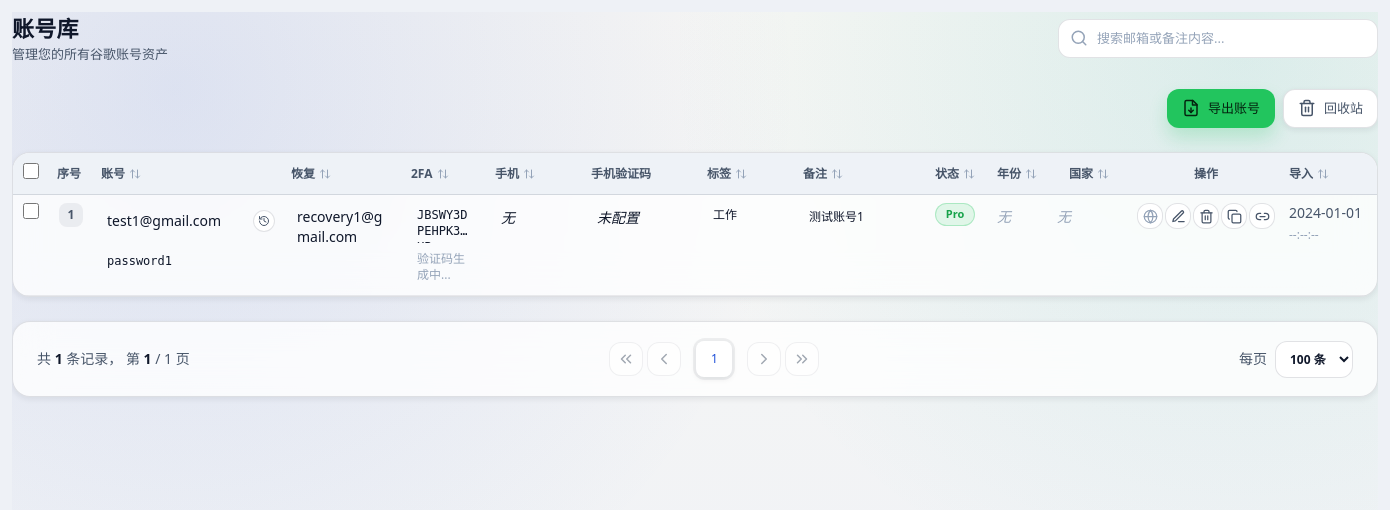
AccountListView 组件 › 操作按钮 › 双击标签进入编辑时不触发复制
Double-click the button "工作".
double_click(747, 215)  # box [707, 203, 787, 227]
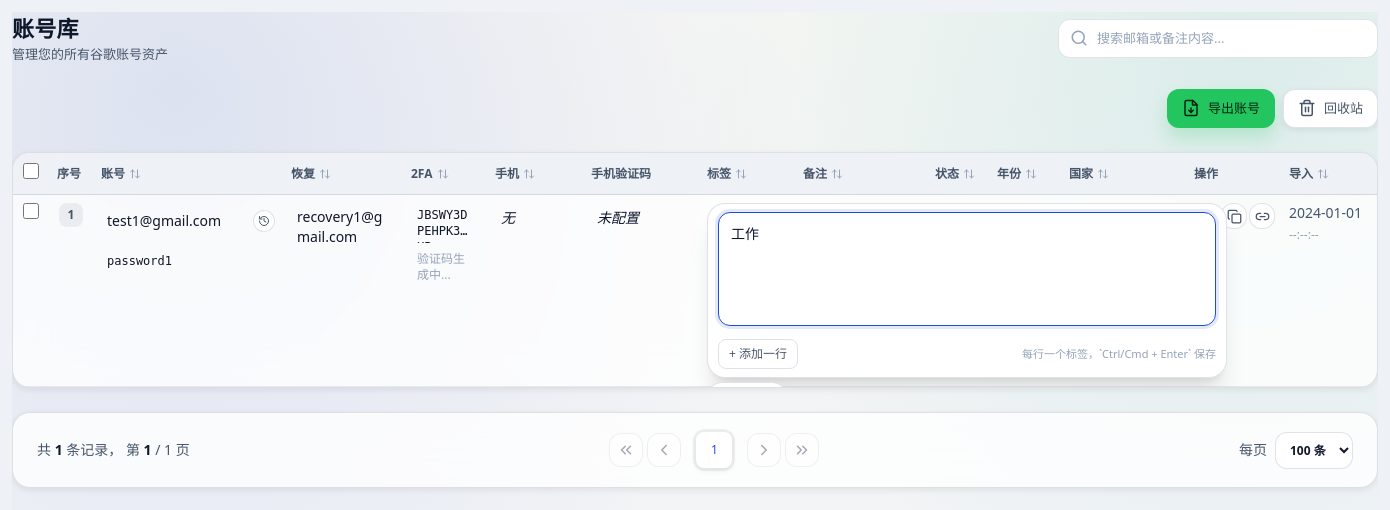
Result: the text box with placeholder "每行一个标签，支持逗号或换行粘贴" is shown at [718, 212, 1216, 326]
